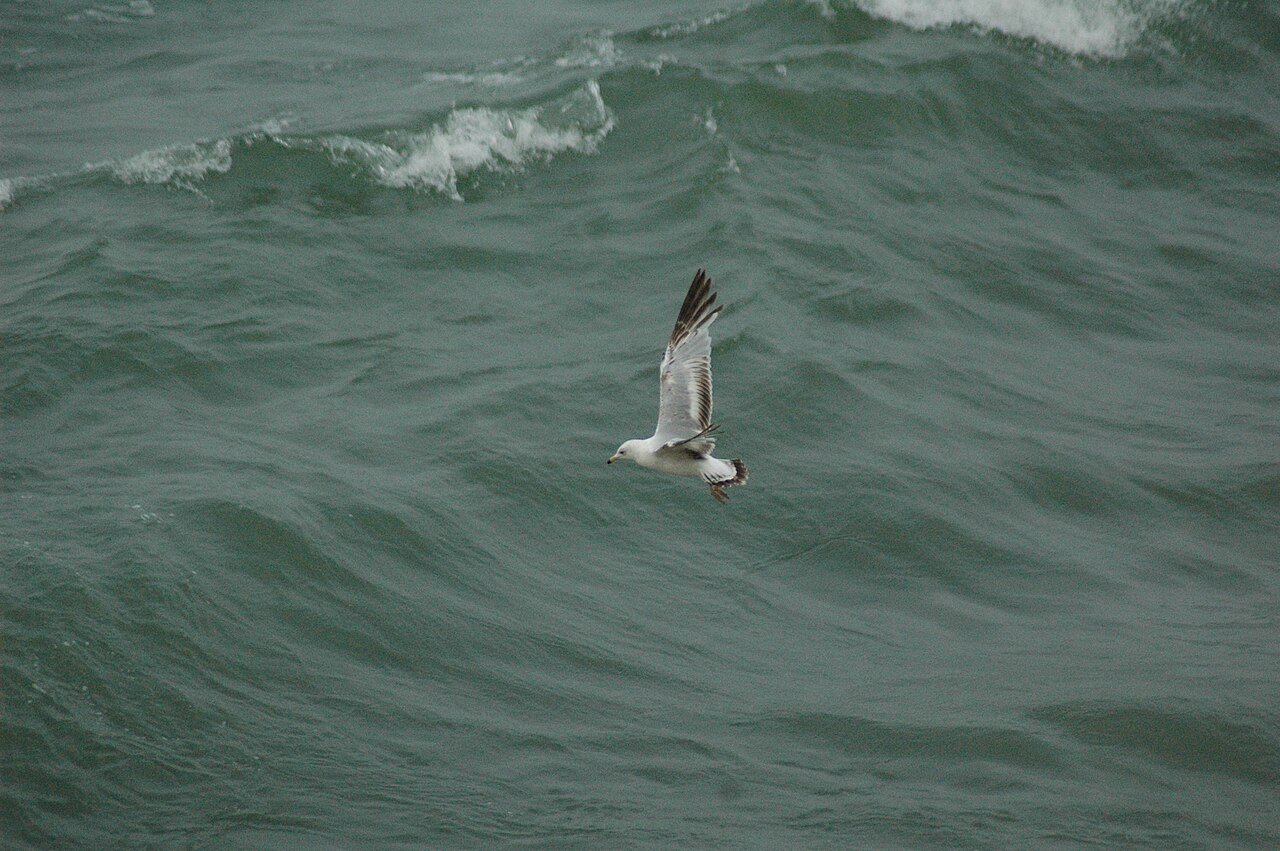bird: (605, 266, 777, 532)
